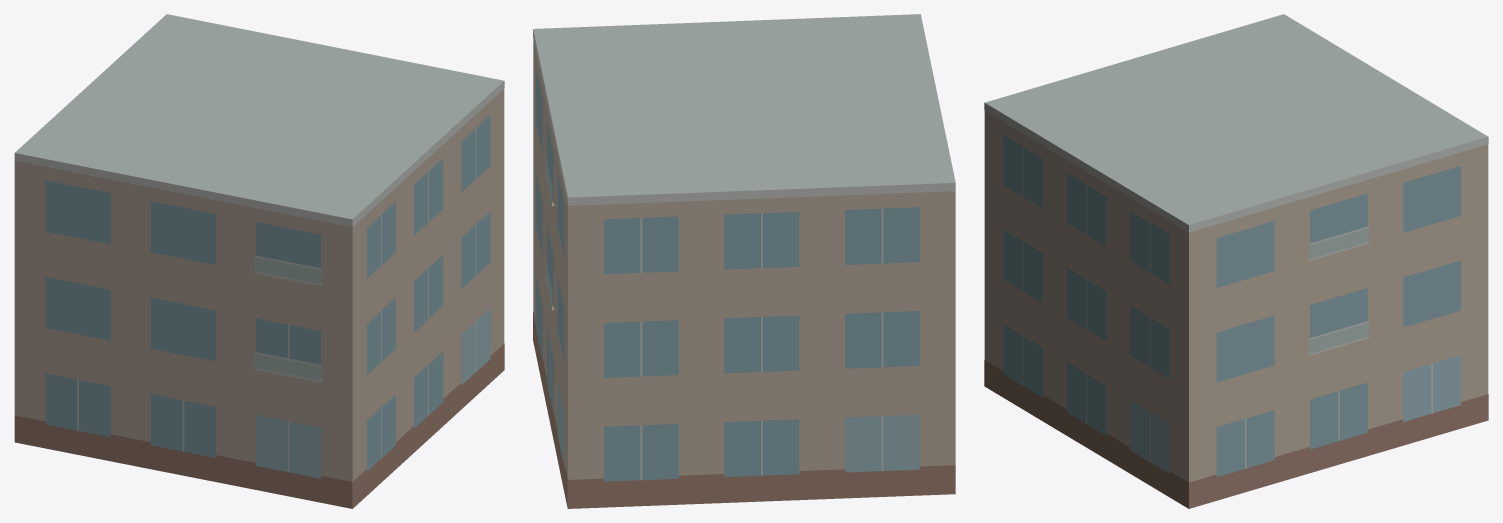
The model's file is survey-upis-32666539.glb.
3 views of the same model, side by side, from view 1: azimuth 30°, elevation 25°; view 2: azimuth 150°, elevation 25°; view 3: azimuth 270°, elevation 25° (orthographic). The views are drawn at different scales.
Parts seen in each view (by area): view 1: survey-upis-32666539.tmp; view 2: survey-upis-32666539.tmp; view 3: survey-upis-32666539.tmp.
Part boxes in pixels (x1=…): survey-upis-32666539.tmp: x1=14, y1=14, x2=504, y2=508; survey-upis-32666539.tmp: x1=533, y1=14, x2=955, y2=508; survey-upis-32666539.tmp: x1=984, y1=14, x2=1488, y2=508.
Bounding box in the file's own units: 14.61 × 9.15 × 14.74.
